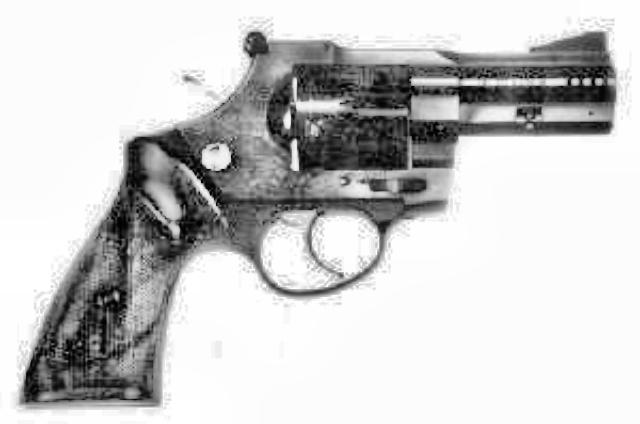pistol: (14, 26, 618, 408)
